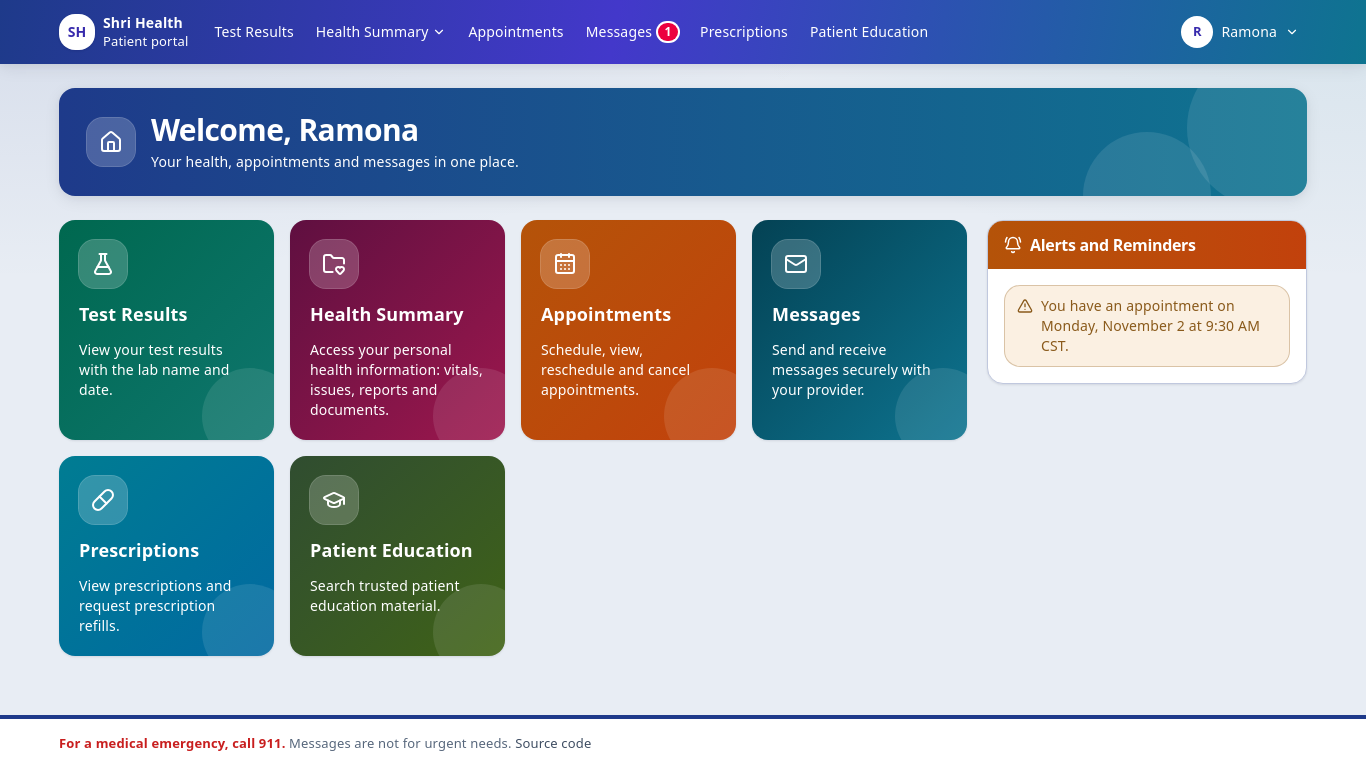
Test: home and menus › has the account menu items
Check: the element "Alerts and Reminders" is shown, box [987,220,1307,384]
Click the button named "account menu" at (1240, 32), box [1173,10,1307,54]
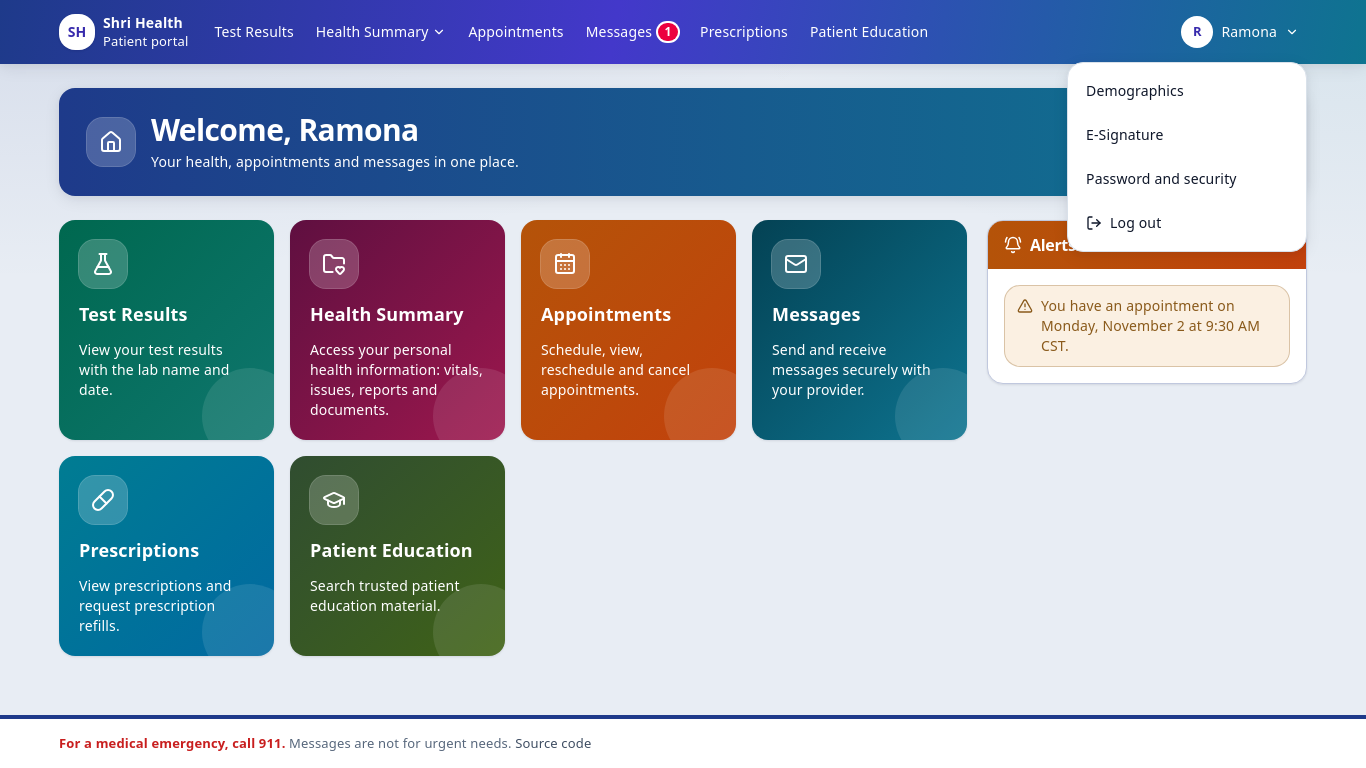
Check: the links read "Demographics", "E-Signature", "Password and security", in this order, box [1086,81,1184,100]; [1086,125,1164,144]; [1086,169,1237,188]
Check: the button "Log out" is shown, box [1074,201,1300,245]
